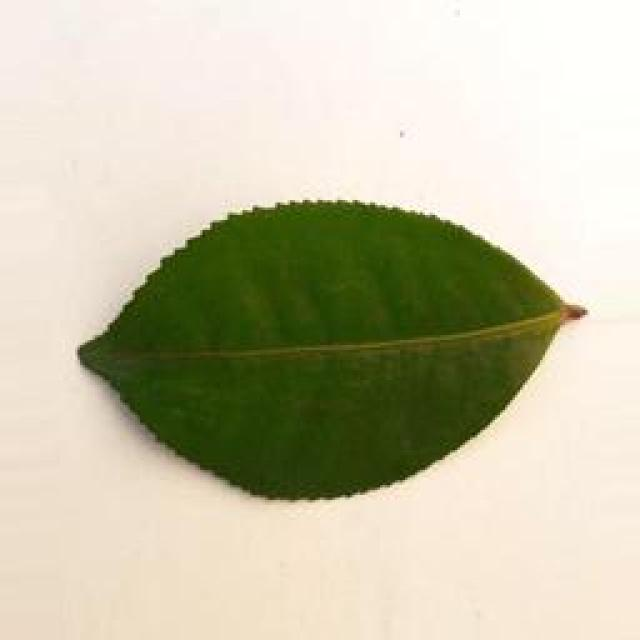Healthy: (68, 197, 583, 506)
